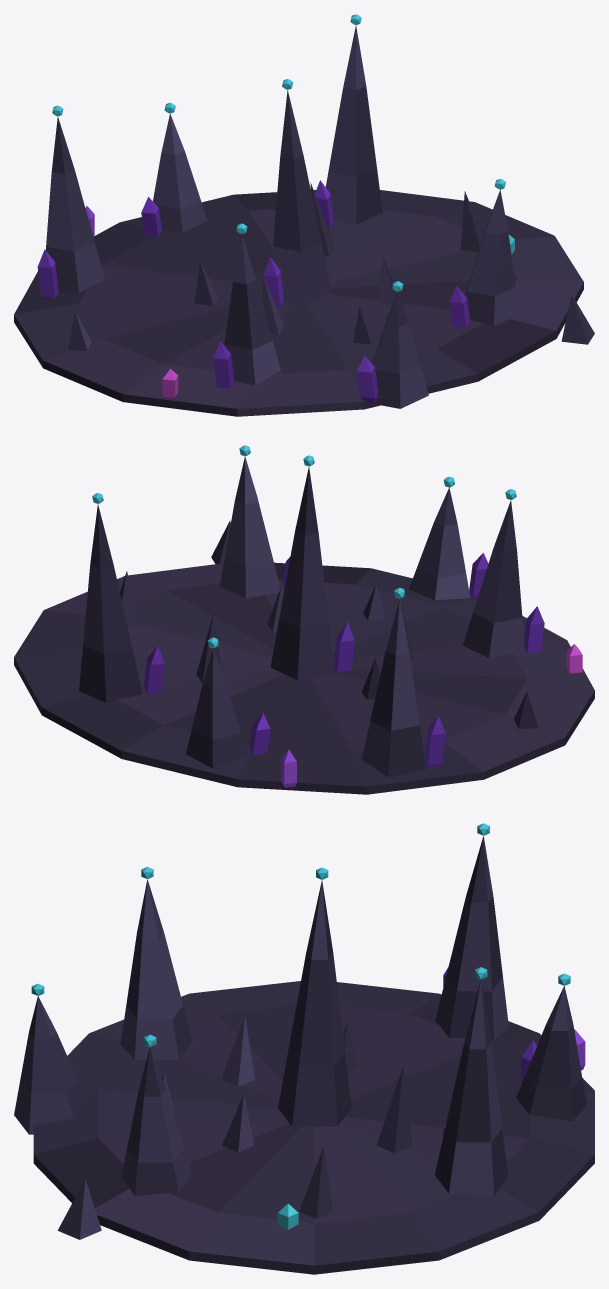
Rendered from Decor_VoidPortal_Spikes.fbx.
The picture shows the model from 3 angles, top to bottom: view 1: azimuth 30°, elevation 25°; view 2: azimuth 150°, elevation 25°; view 3: azimuth 270°, elevation 25°; orthographic projection. The views are drawn at different scales.
Parts seen in each view (by area): view 1: Spikes_Body; view 2: Spikes_Body; view 3: Spikes_Body.
Boxes of the visible parts, x1=… form: Spikes_Body: x1=14, y1=14, x2=594, y2=416; Spikes_Body: x1=14, y1=445, x2=594, y2=794; Spikes_Body: x1=14, y1=823, x2=594, y2=1274.
Bounding box in the file's own units: 26 × 11 × 22.3.
